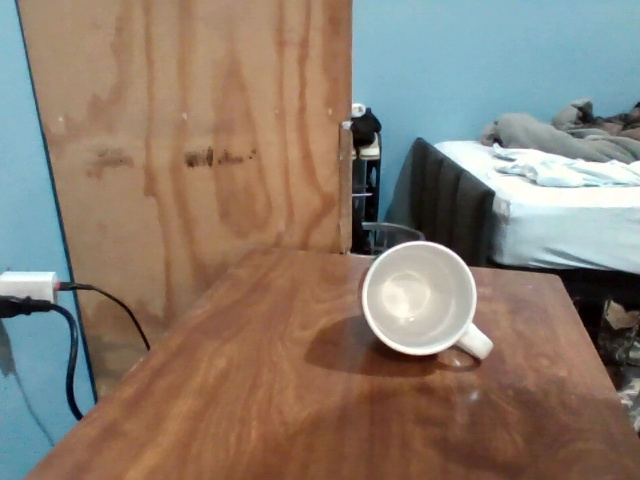taza: (361, 241, 479, 356)
